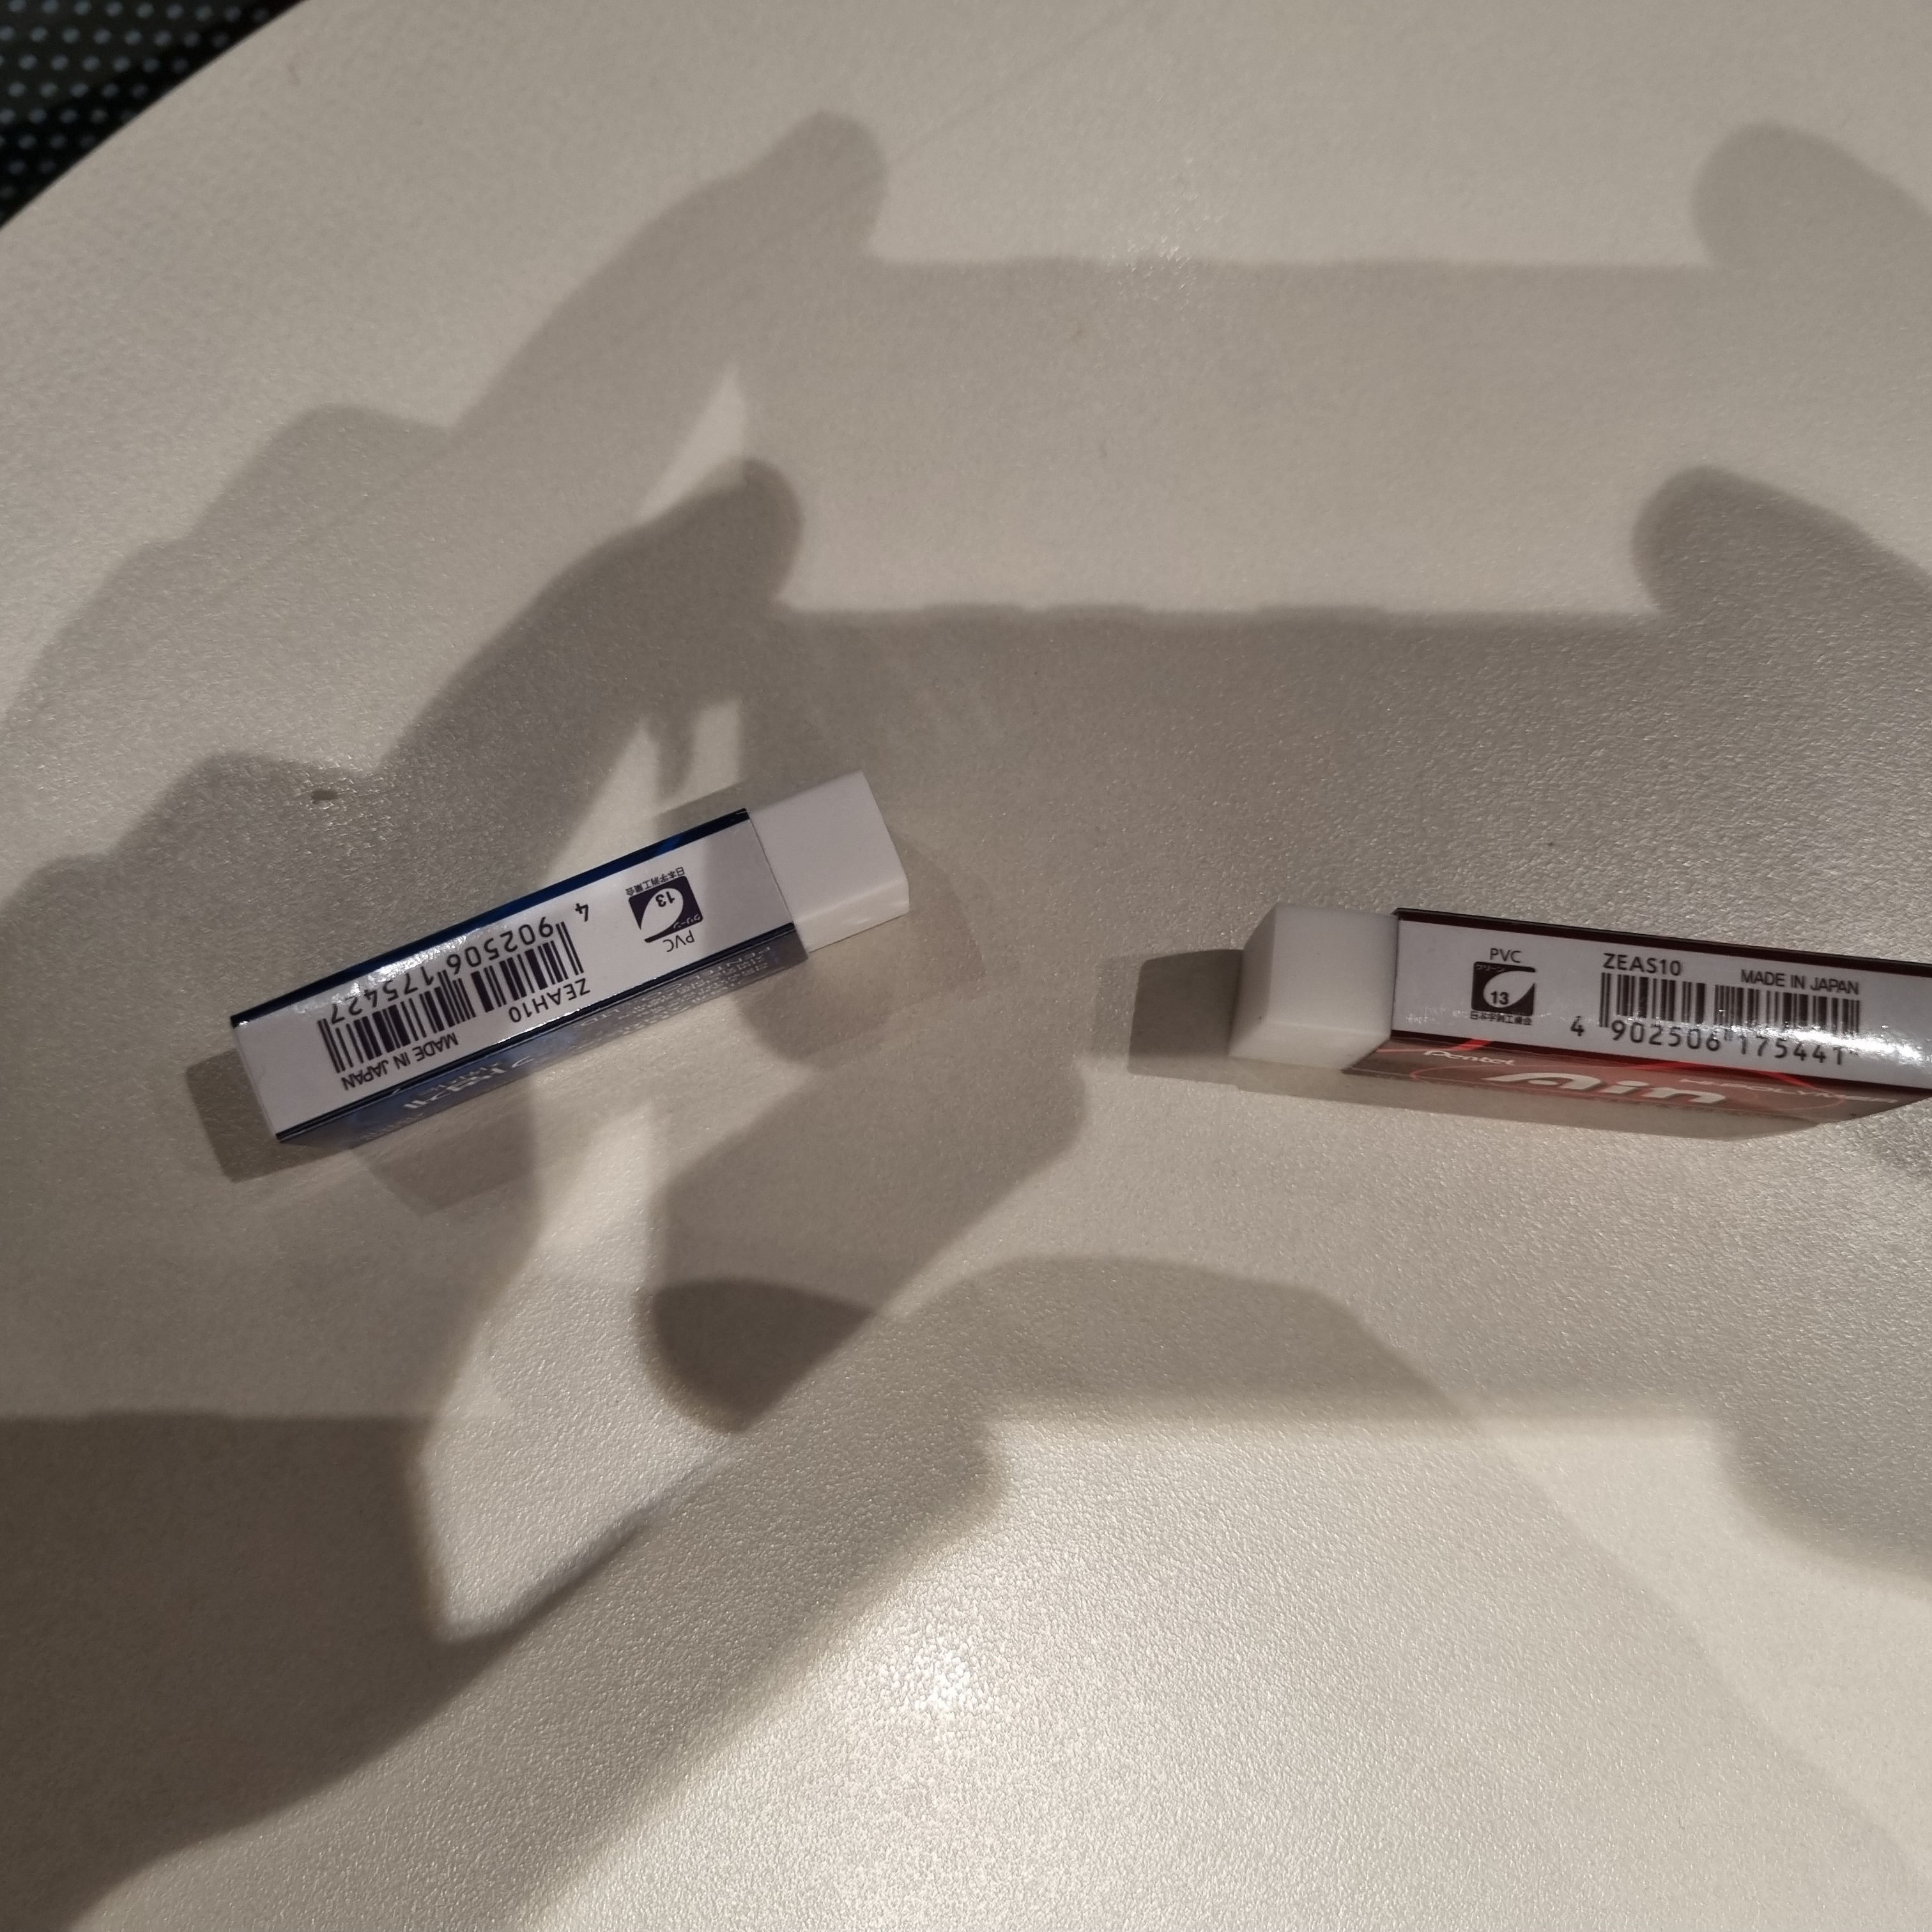blue: (202, 755, 934, 1177)
red: (1168, 860, 1932, 1171)
